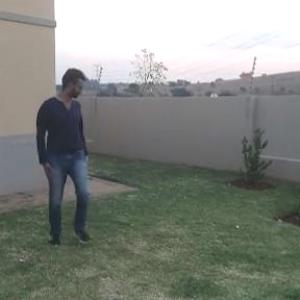follow: (32, 64, 94, 247)
